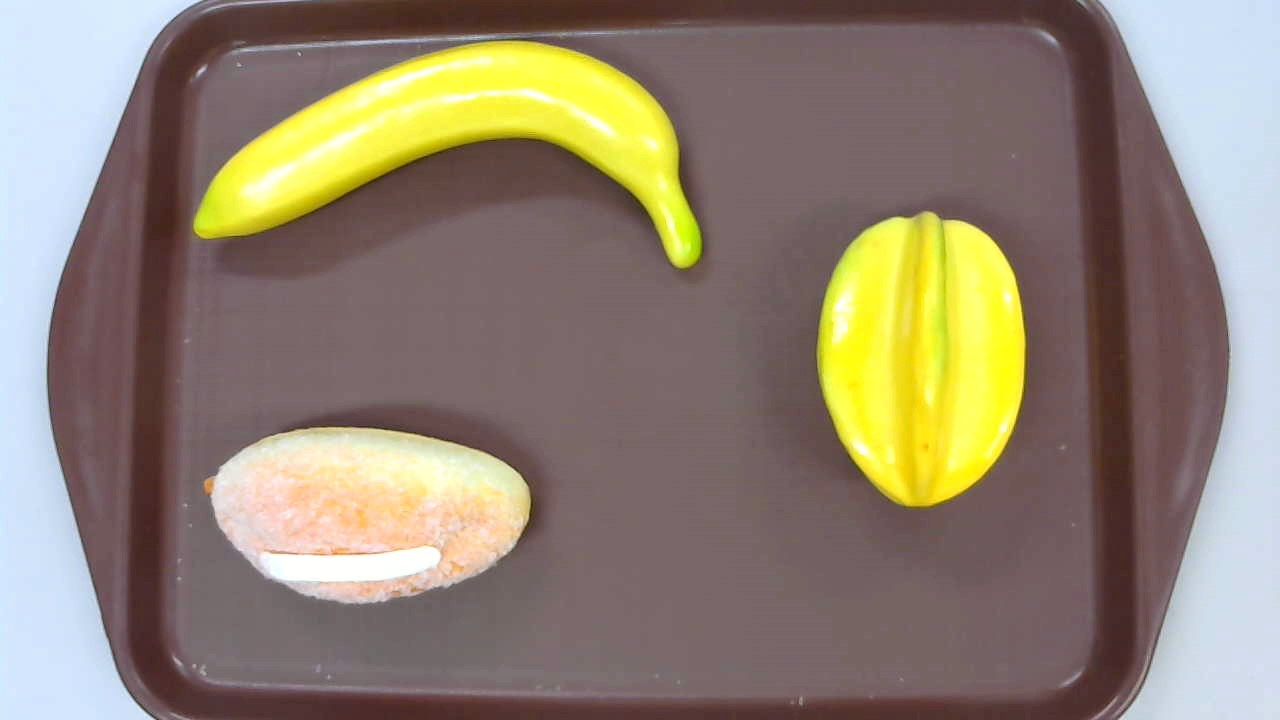banana: (193, 38, 704, 272)
coconut: (202, 424, 529, 606)
star fruit: (816, 209, 1027, 509)
